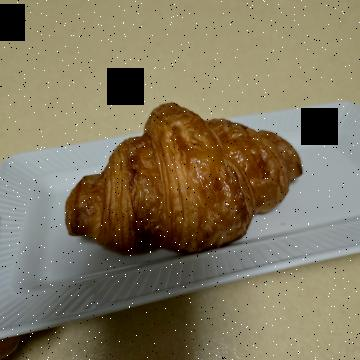croissant: (94, 50, 283, 306)
